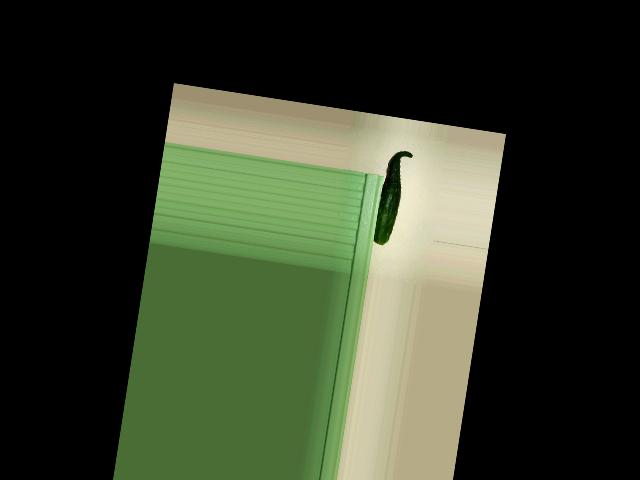cucumber: (372, 148, 412, 247)
